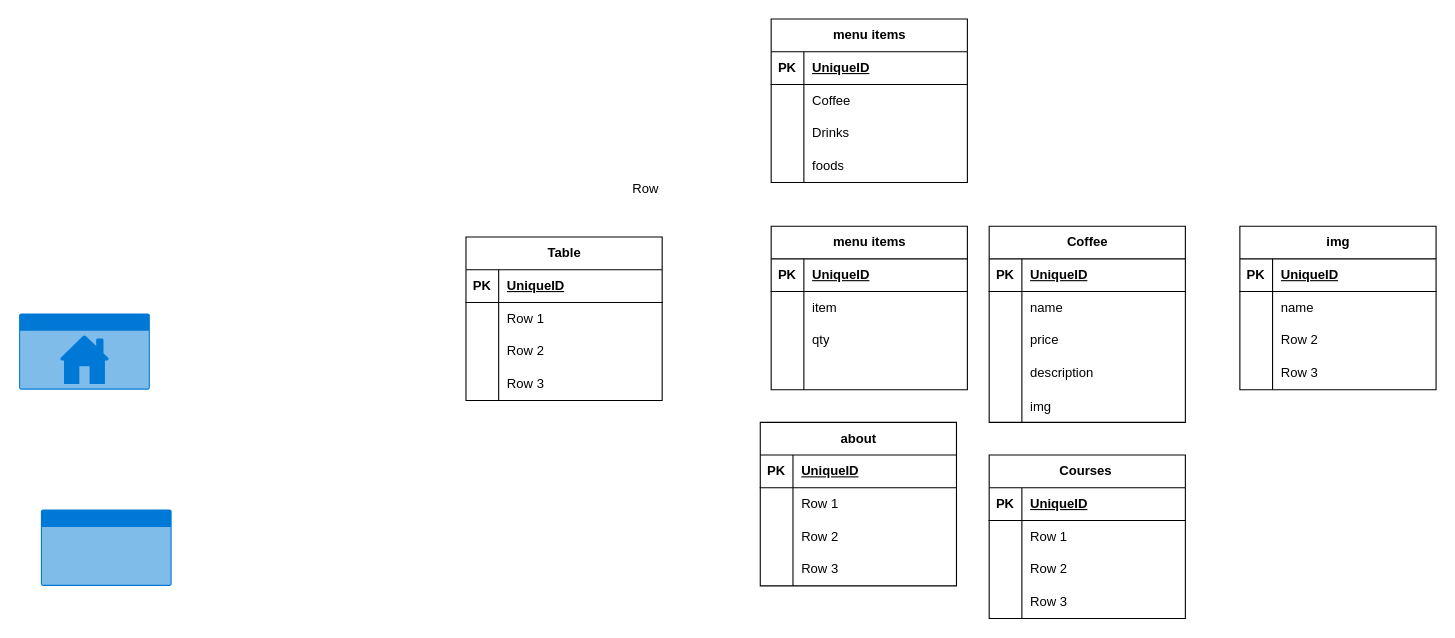
The diagram is 1455 pixels wide and 638 high, and some of its shapes have lost their labels. The shapes that lost their labels are listed below. From the top down, each one's box as (x1, y1, x2, y2) in pixels, then its label:
(19, 313, 149, 389): Home
(40, 509, 171, 585): Page
